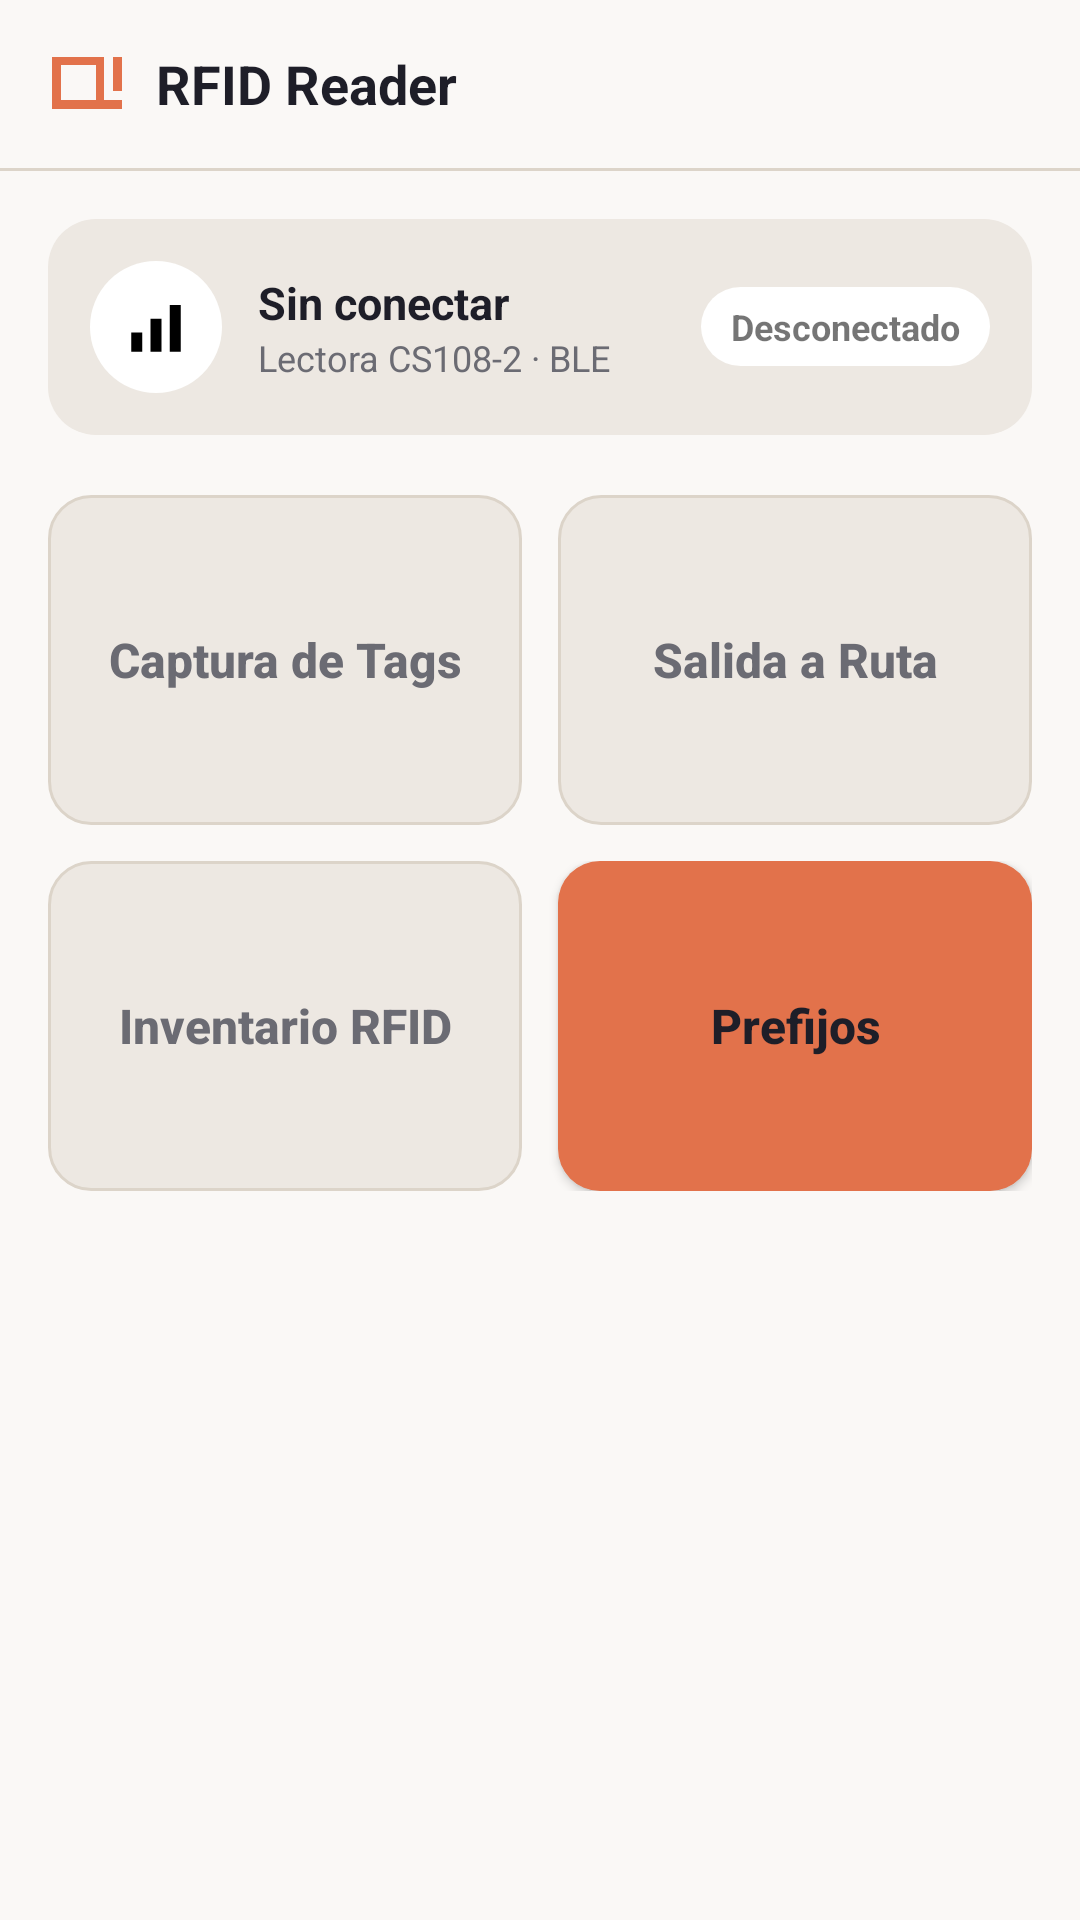

Named icons in this screenshot (1080w x 1920h) and their centers, point (x, y):
signal: point (156, 327)
